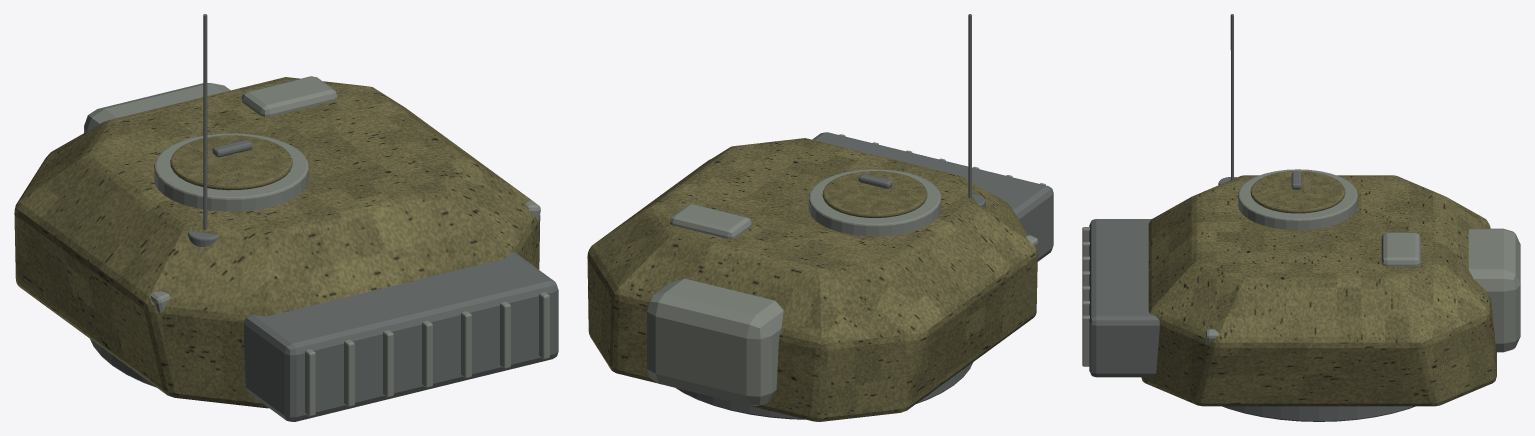
File: STK-U01.fbx
3 renders of one model, left to right at view 1: azimuth 30°, elevation 25°; view 2: azimuth 150°, elevation 25°; view 3: azimuth 270°, elevation 25°, orthographic. The views are drawn at different scales.
Visible parts, largest first — view 1: STK-U01_Armor, STK-U01_Steel, STK-U01_Edge; view 2: STK-U01_Armor, STK-U01_Edge, STK-U01_Steel; view 3: STK-U01_Armor, STK-U01_Steel, STK-U01_Edge.
Part boxes in pixels (x1,y1,x2,y2): STK-U01_Armor: (14,77,540,408); STK-U01_Steel: (90,14,558,421); STK-U01_Edge: (84,76,549,416); STK-U01_Armor: (587,138,1037,421); STK-U01_Edge: (647,134,1045,405); STK-U01_Steel: (676,14,1053,419); STK-U01_Armor: (1141,171,1496,406); STK-U01_Steel: (1089,14,1415,421); STK-U01_Edge: (1082,169,1520,366).
Size of the model in its own units: 253 by 235 by 314.
